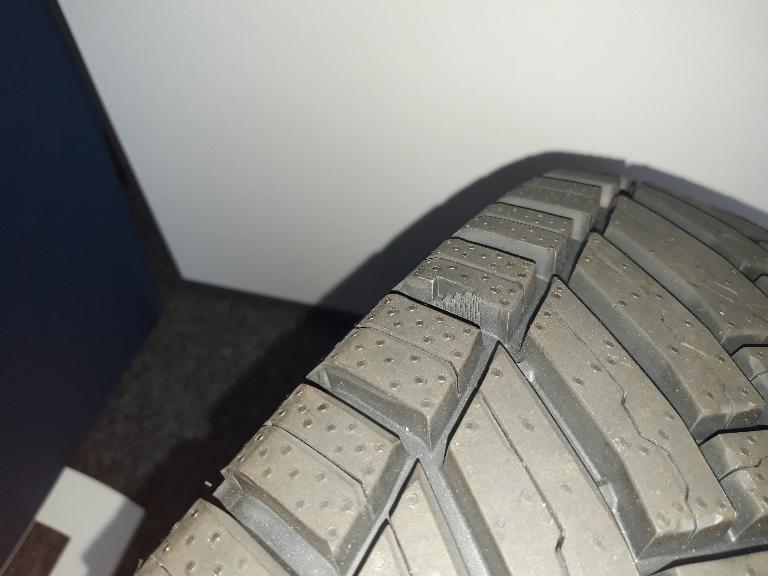temoin:100: (431, 276, 483, 331)
